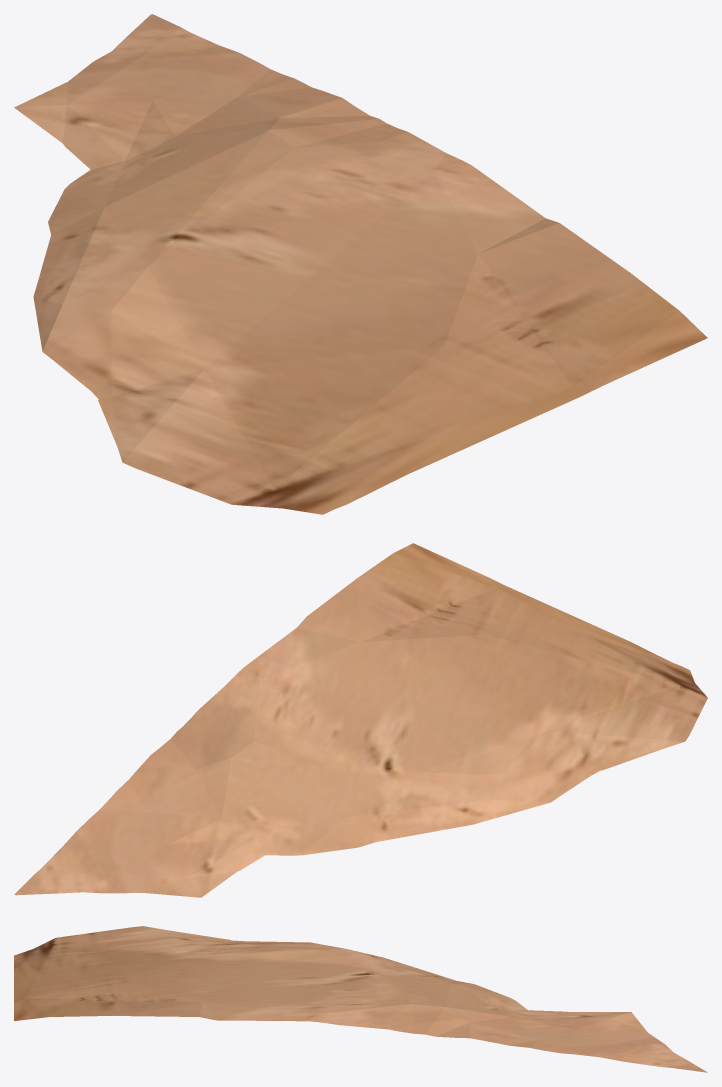
3 views of the same model, one above another, from view 1: azimuth 30°, elevation 25°; view 2: azimuth 150°, elevation 25°; view 3: azimuth 270°, elevation 25° (orthographic). The views are drawn at different scales.
Bounding box in the file's own units: 0.7189 × 0.1302 × 1.44.
1 material, 1 textured.
